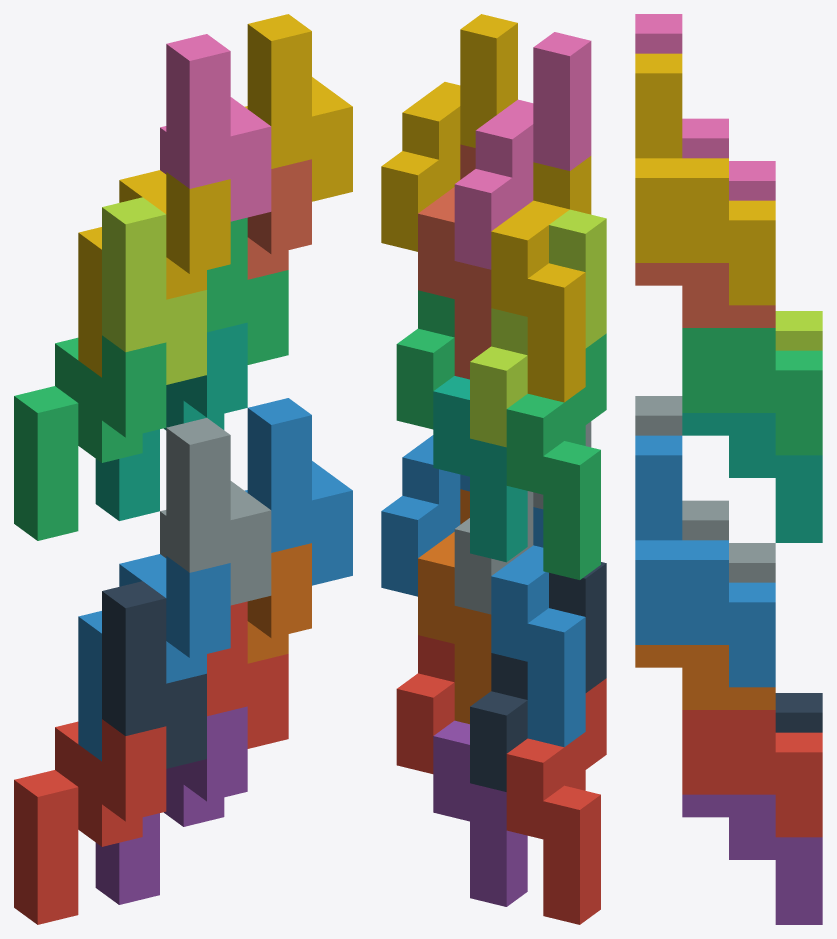
File: tiling.obj
3 views of the same model, side by side, from view 1: azimuth 30°, elevation 25°; view 2: azimuth 150°, elevation 25°; view 3: azimuth 270°, elevation 25° (orthographic). The views are drawn at different scales.
Visible parts, largest first — view 1: copy_1_domain_1, copy_1_domain_3, copy_2_domain_4, copy_2_domain_2, copy_2_domain_3, copy_2_domain_1, copy_2_domain_6, copy_2_domain_8, copy_1_domain_2, copy_1_domain_4, copy_1_domain_5, copy_1_domain_7 (+4 smaller); view 2: copy_2_domain_4, copy_1_domain_4, copy_2_domain_8, copy_1_domain_1, copy_1_domain_3, copy_1_domain_2, copy_2_domain_3, copy_2_domain_1, copy_1_domain_5, copy_1_domain_7, copy_2_domain_6, copy_1_domain_8 (+4 smaller); view 3: copy_2_domain_6, copy_2_domain_8, copy_2_domain_5, copy_2_domain_7, copy_1_domain_5, copy_1_domain_7, copy_2_domain_2, copy_2_domain_4, copy_1_domain_6, copy_1_domain_8, copy_2_domain_1, copy_2_domain_3.
Part boxes in pixels (left/top/right/bottom): copy_1_domain_1: left=14, top=719, right=166, bottom=924; copy_1_domain_3: left=14, top=335, right=166, bottom=540; copy_2_domain_4: left=160, top=34, right=271, bottom=221; copy_2_domain_2: left=160, top=418, right=271, bottom=605; copy_2_domain_3: left=102, top=197, right=206, bottom=384; copy_2_domain_1: left=102, top=581, right=206, bottom=768; copy_2_domain_6: left=245, top=398, right=352, bottom=585; copy_2_domain_8: left=244, top=14, right=352, bottom=201; copy_1_domain_2: left=78, top=554, right=230, bottom=761; copy_1_domain_4: left=78, top=170, right=230, bottom=377; copy_1_domain_5: left=95, top=706, right=247, bottom=904; copy_1_domain_7: left=95, top=322, right=247, bottom=520; copy_2_domain_4: left=454, top=32, right=591, bottom=269; copy_1_domain_4: left=491, top=156, right=591, bottom=402; copy_2_domain_8: left=381, top=14, right=517, bottom=251; copy_1_domain_1: left=506, top=678, right=606, bottom=924; copy_1_domain_3: left=506, top=333, right=606, bottom=579; copy_1_domain_2: left=491, top=507, right=585, bottom=747; copy_2_domain_3: left=470, top=209, right=606, bottom=447; copy_2_domain_1: left=470, top=562, right=606, bottom=791; copy_1_domain_5: left=433, top=720, right=527, bottom=906; copy_1_domain_7: left=433, top=376, right=527, bottom=562; copy_2_domain_6: left=381, top=435, right=469, bottom=596; copy_1_domain_8: left=418, top=144, right=491, bottom=379; copy_2_domain_6: left=635, top=435, right=775, bottom=687; copy_2_domain_8: left=635, top=53, right=775, bottom=305; copy_2_domain_5: left=682, top=710, right=822, bottom=837; copy_2_domain_7: left=682, top=328, right=822, bottom=455; copy_1_domain_5: left=682, top=794, right=822, bottom=924; copy_1_domain_7: left=682, top=413, right=822, bottom=542; copy_2_domain_2: left=635, top=396, right=775, bottom=582; copy_2_domain_4: left=635, top=14, right=775, bottom=200; copy_1_domain_6: left=635, top=645, right=775, bottom=709; copy_1_domain_8: left=635, top=263, right=775, bottom=327; copy_2_domain_1: left=775, top=693, right=822, bottom=732; copy_2_domain_3: left=775, top=311, right=822, bottom=350.
Bounding box in the file's own units: 6 × 21 × 4.
